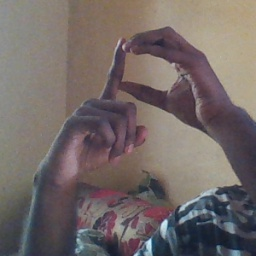P: (68, 27, 216, 165)
